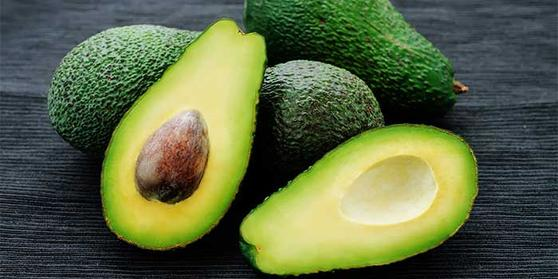avocado: (250, 1, 459, 121), (48, 19, 212, 151)
